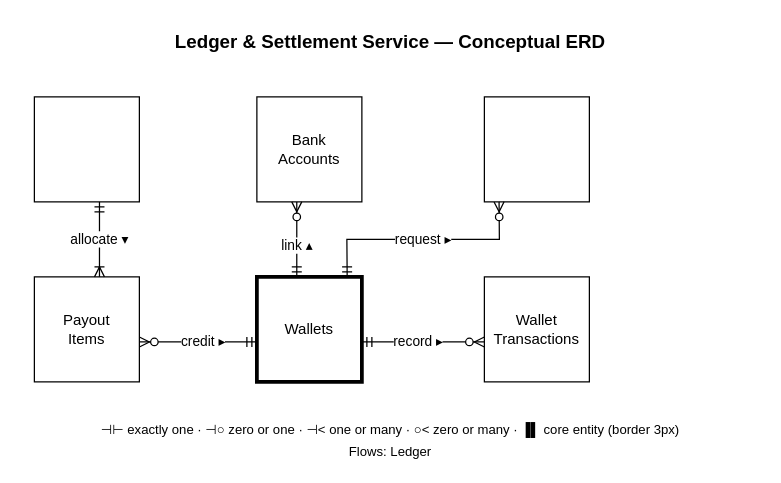
Some shapes in this 781 by 483 pixel diagram are drawn without their labels. Here are the shapes that lost their labels. From the top down, the centre of each, then its label:
the point at 86,149: Profit Distributions
the point at 536,149: Withdrawals
